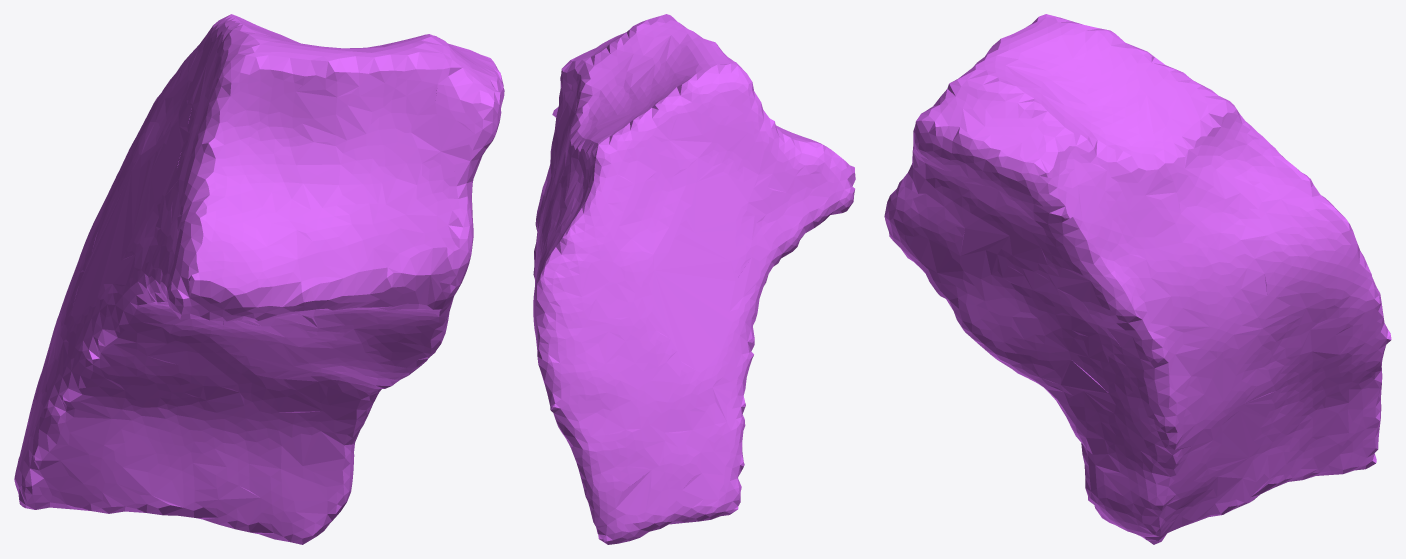
File: Model_10128_LH__Temporal_area_TE1_(TE1).obj
The picture shows the model from 3 angles, left to right: view 1: azimuth 30°, elevation 25°; view 2: azimuth 150°, elevation 25°; view 3: azimuth 270°, elevation 25°; orthographic projection. The views are drawn at different scales.
Size of the model in its own units: 2.73 by 4 by 3.83.
